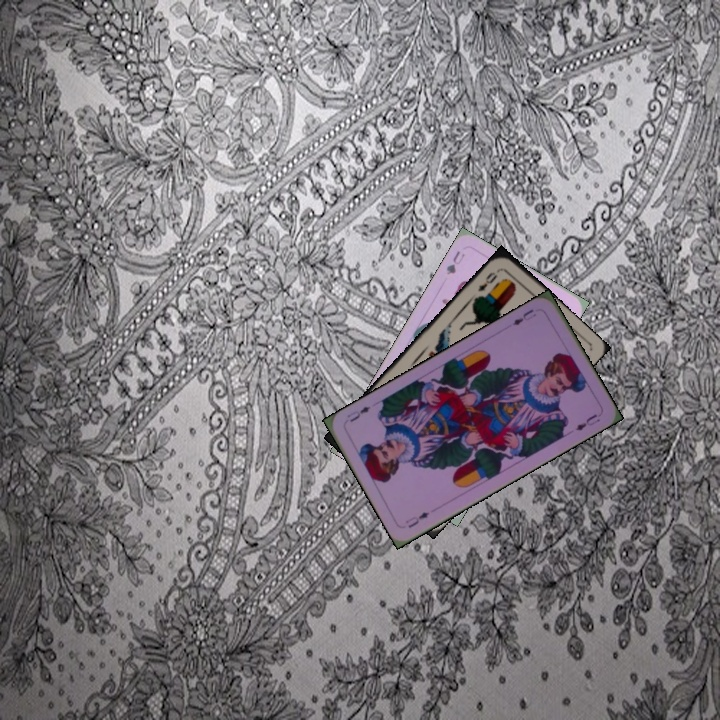EO: (473, 268, 500, 294)
EU: (508, 305, 539, 328), (401, 508, 432, 530)
GU: (442, 247, 467, 278)
